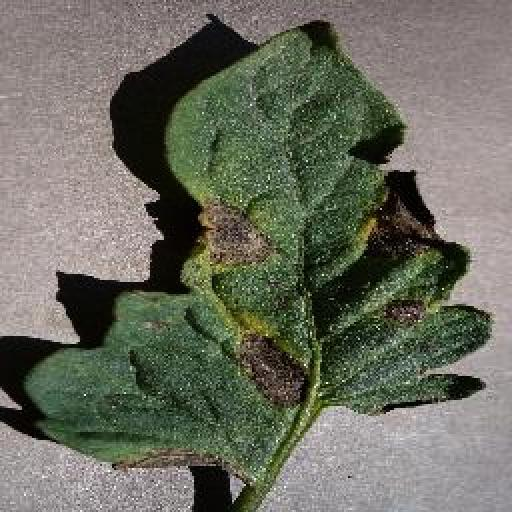disease_tomato: (28, 18, 492, 478)
